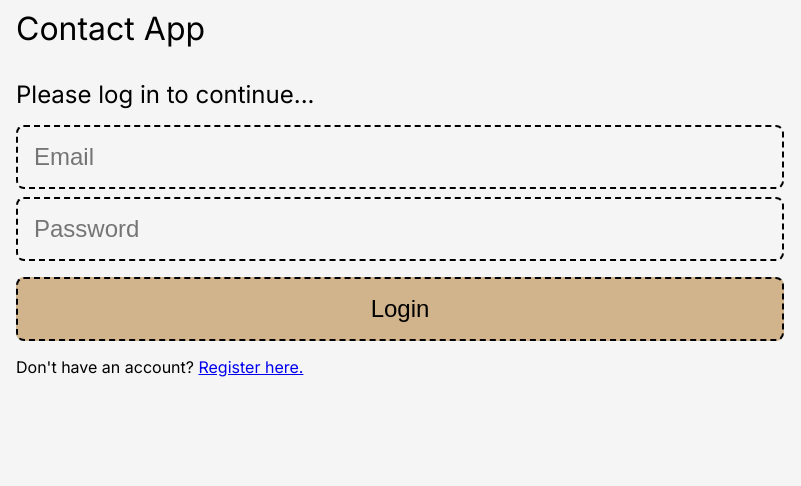
Home spec › should delete a contact when delete button clicked
The image size is (801, 486).
Type "john.doe@gmail.com" into the field with placeholder "Email" at (400, 157), box [16,125,784,189]
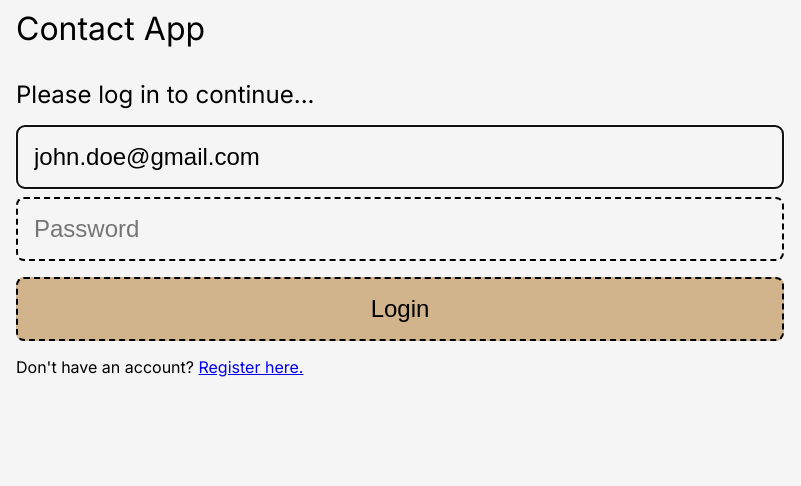
Type "password" into the password field with placeholder "Password" at (400, 229), box [16,197,784,261]
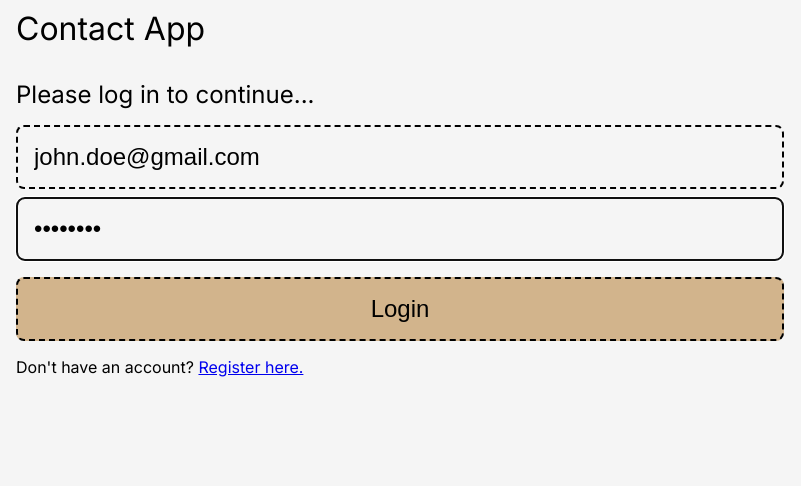
Click the button "Login" at (400, 309), box [16,277,784,341]
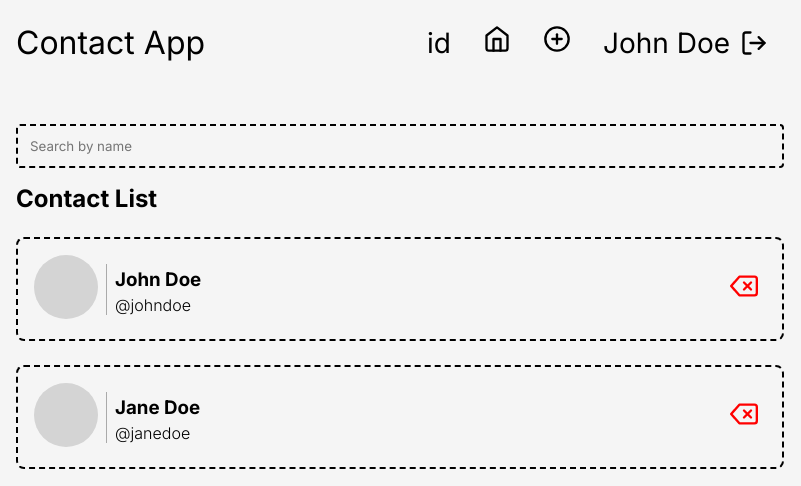
Open "http://localhost:5173/"
expect the heading "John Doe" is shown: met, box [115,268,201,290]
expect the text "@johndoe" is shown: met, box [115,294,191,314]
Click the button without text in the row of "johndoe" at (744, 290), box [722,264,766,315]
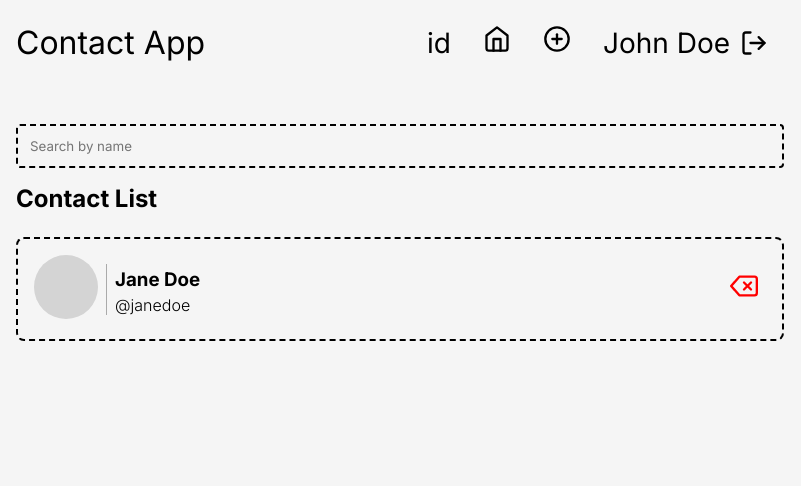
expect the text "@johndoe" is gone: met
